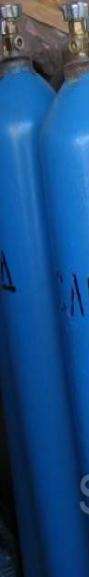cylinder: (1, 1, 89, 577)
